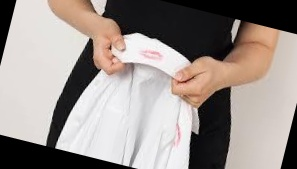lipstick: (165, 120, 188, 152), (137, 46, 170, 66)
